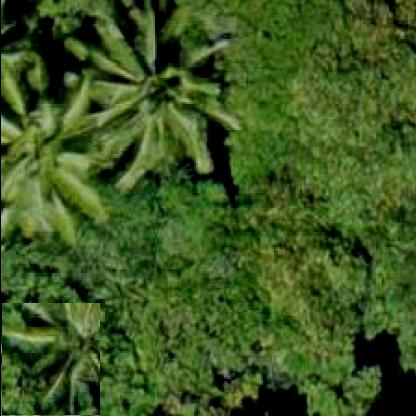coconut tree: (0, 2, 246, 257), (1, 302, 100, 415)
